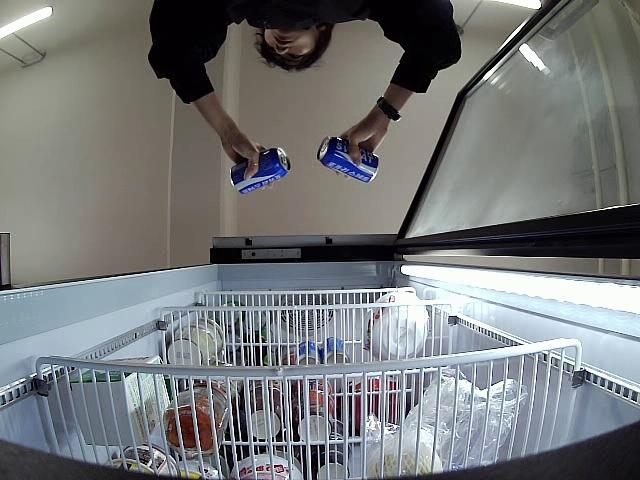00_hand: (222, 131, 272, 193), (337, 122, 389, 167)
13_pocariSweat: (318, 137, 379, 186), (231, 149, 291, 191)
